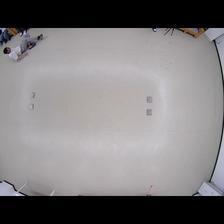fall: (3, 31, 44, 62)
